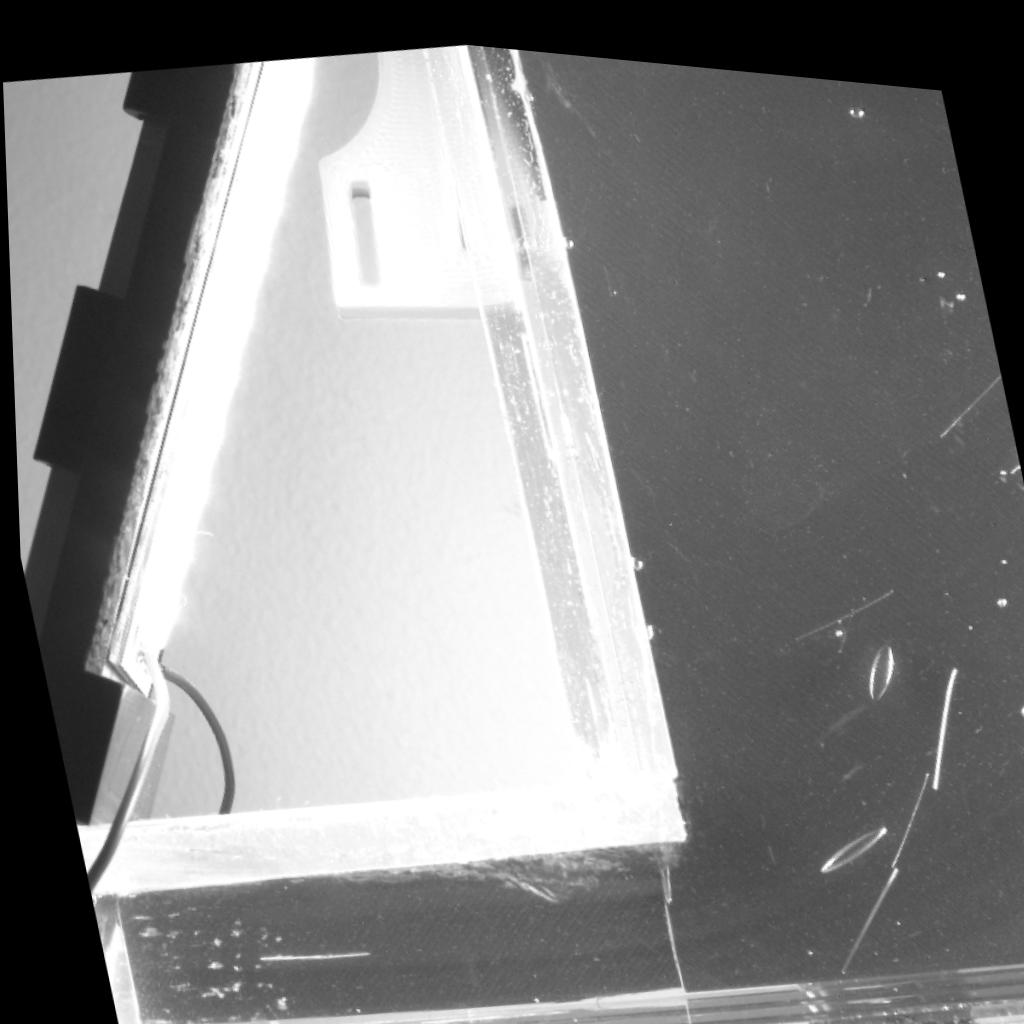Fiber: (830, 844, 898, 962), (787, 573, 894, 631), (880, 749, 926, 855), (935, 352, 999, 426), (924, 642, 956, 774), (248, 942, 361, 959)
